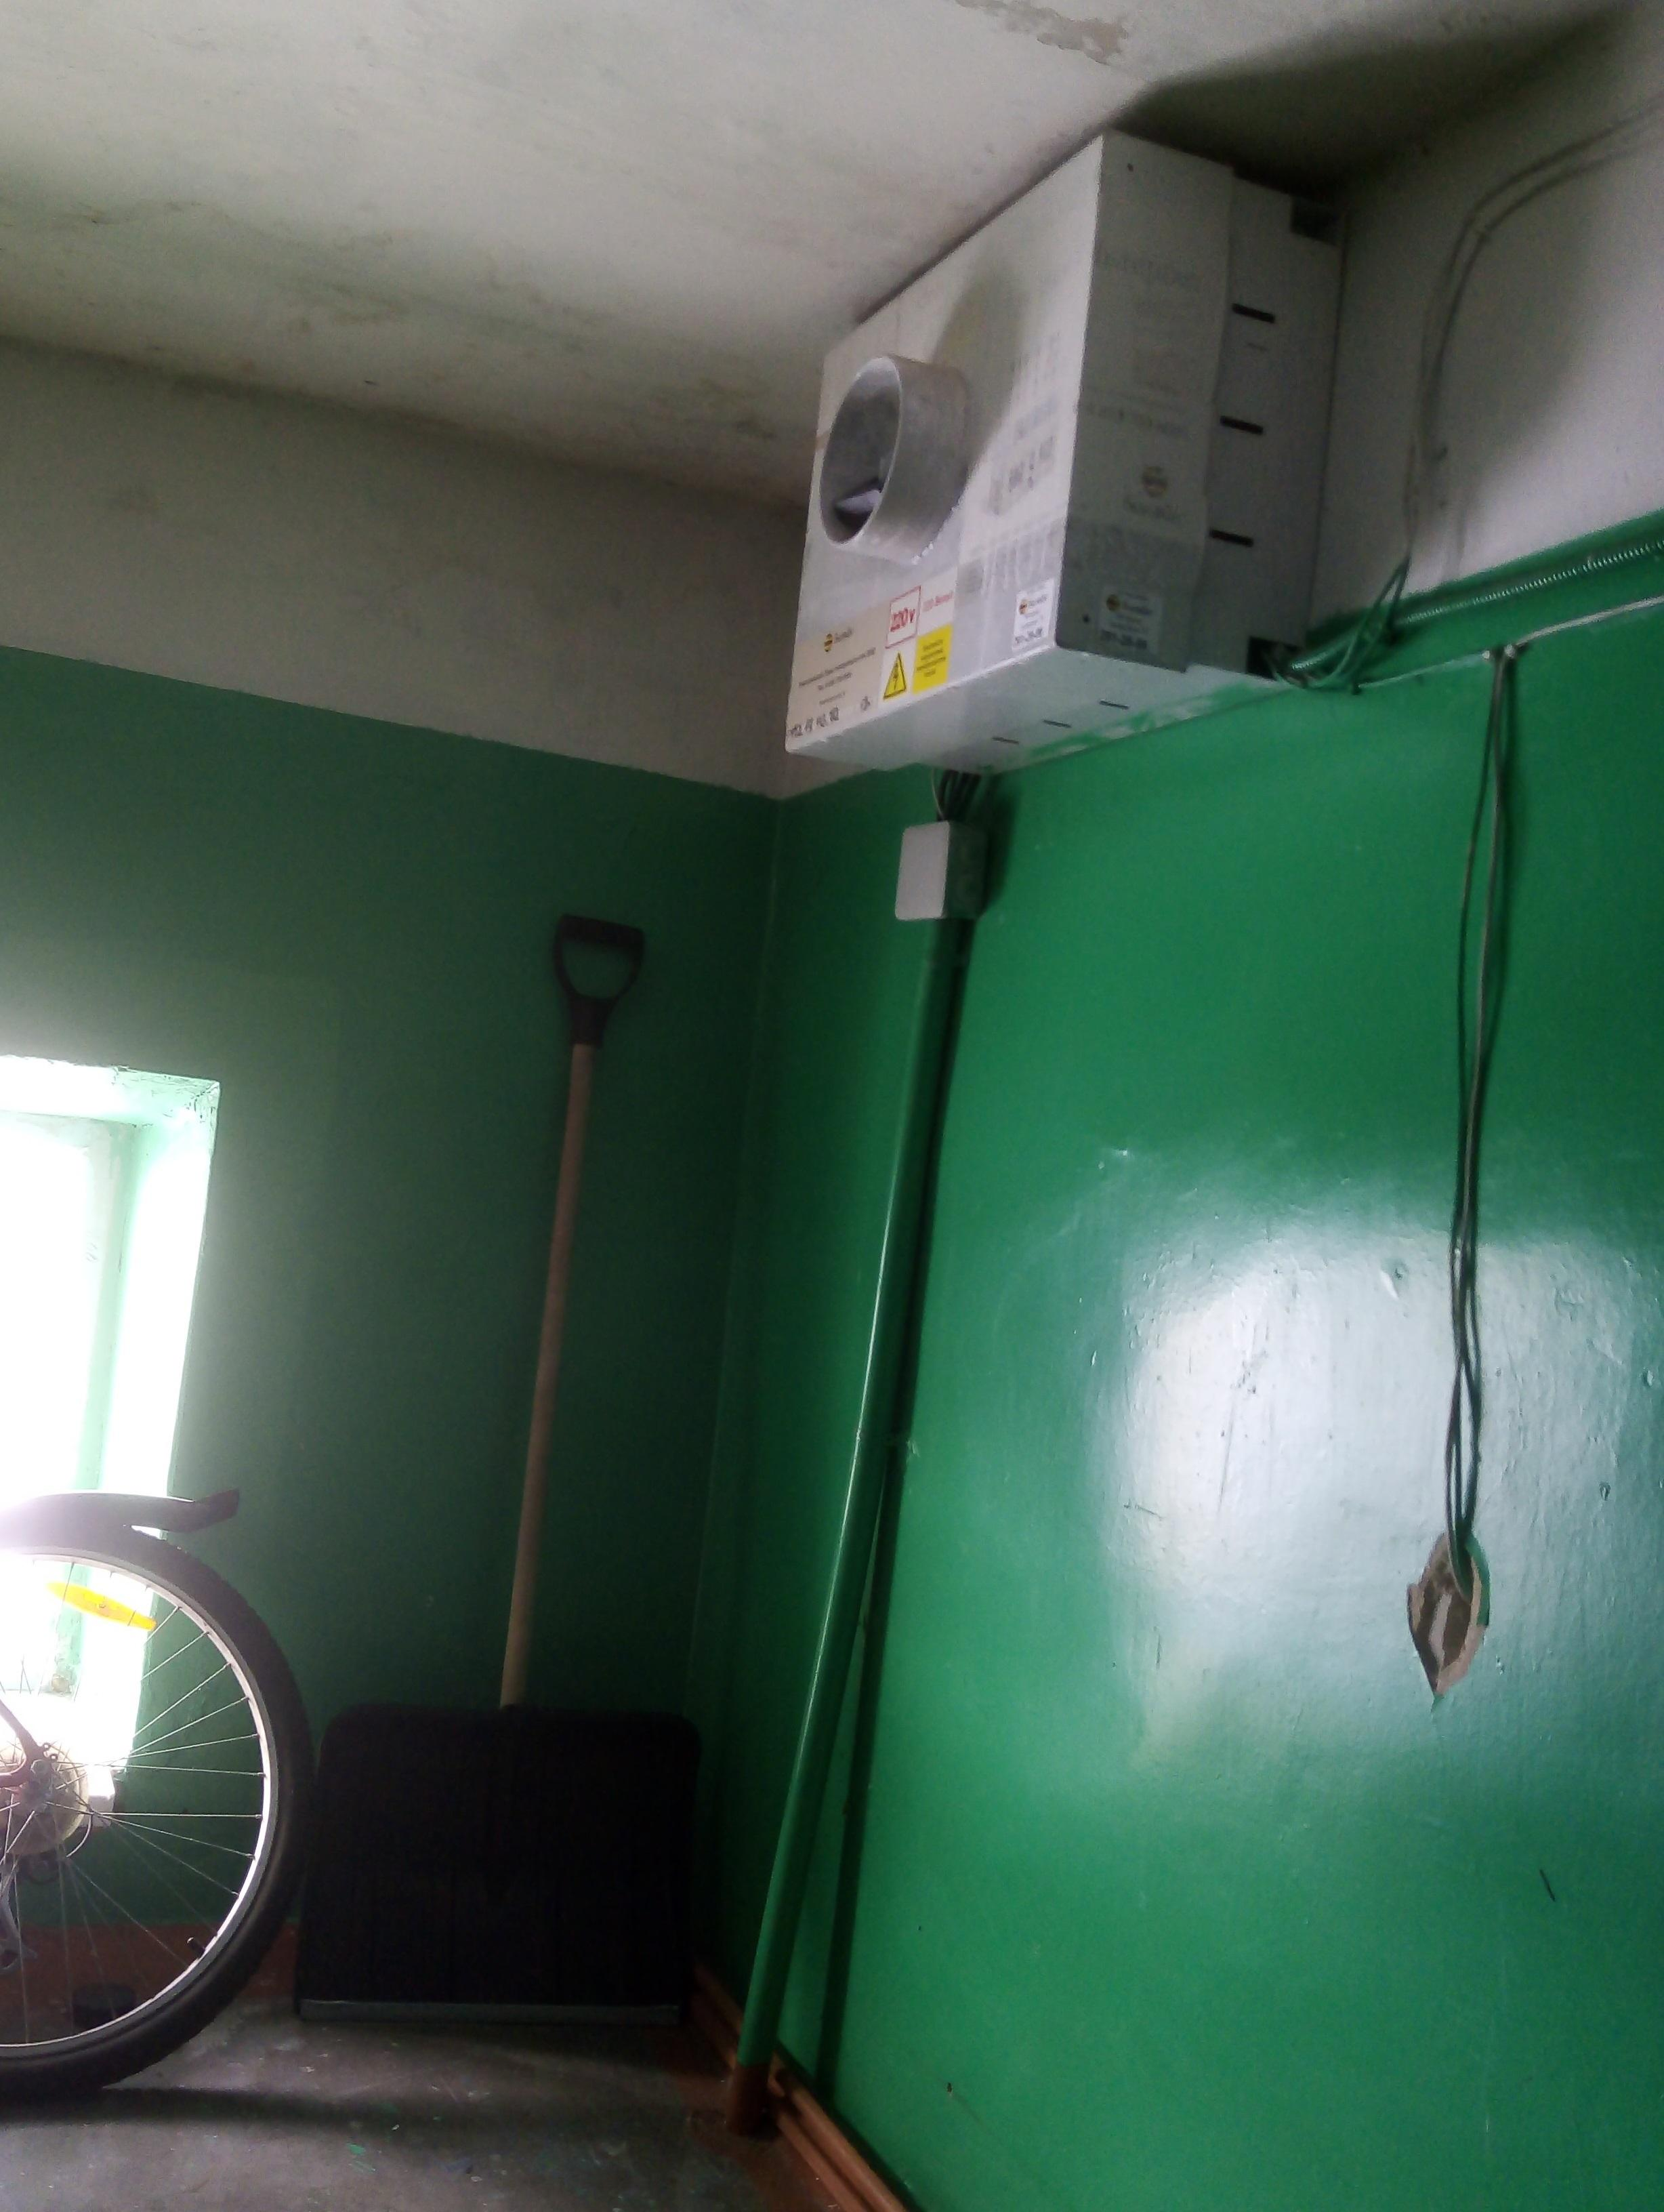shta-3: (771, 126, 1355, 782)
